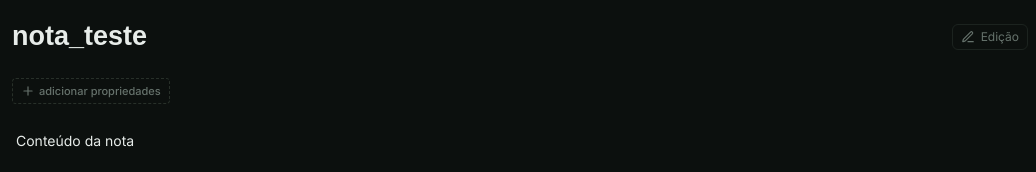
Test case: MarkdownEditor Component › deve exibir erro inline quando o título for vazio e restaurar o valor anterior
Altera para vazio e desfoca
Clear the field with placeholder "Sem título" at (478, 37), box [12, 12, 944, 62]
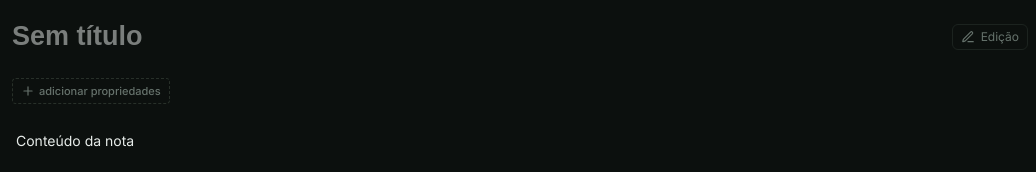
Leave the field with placeholder "Sem título", box [12, 12, 944, 62]
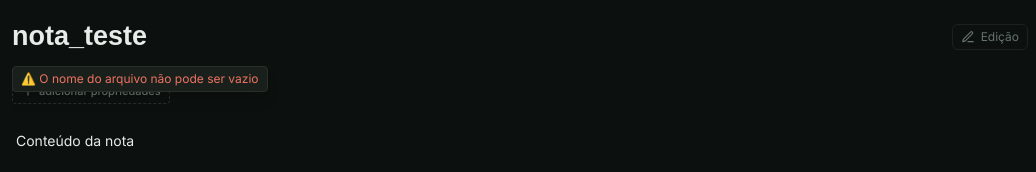
expect the text "⚠️ O nome do arquivo não pode ser vazio" is shown: met, box [12, 66, 268, 92]
expect the field with placeholder "Sem título" holds "nota_teste": met, box [12, 12, 944, 62]
